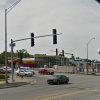Traffic light: (15, 23, 61, 55)
